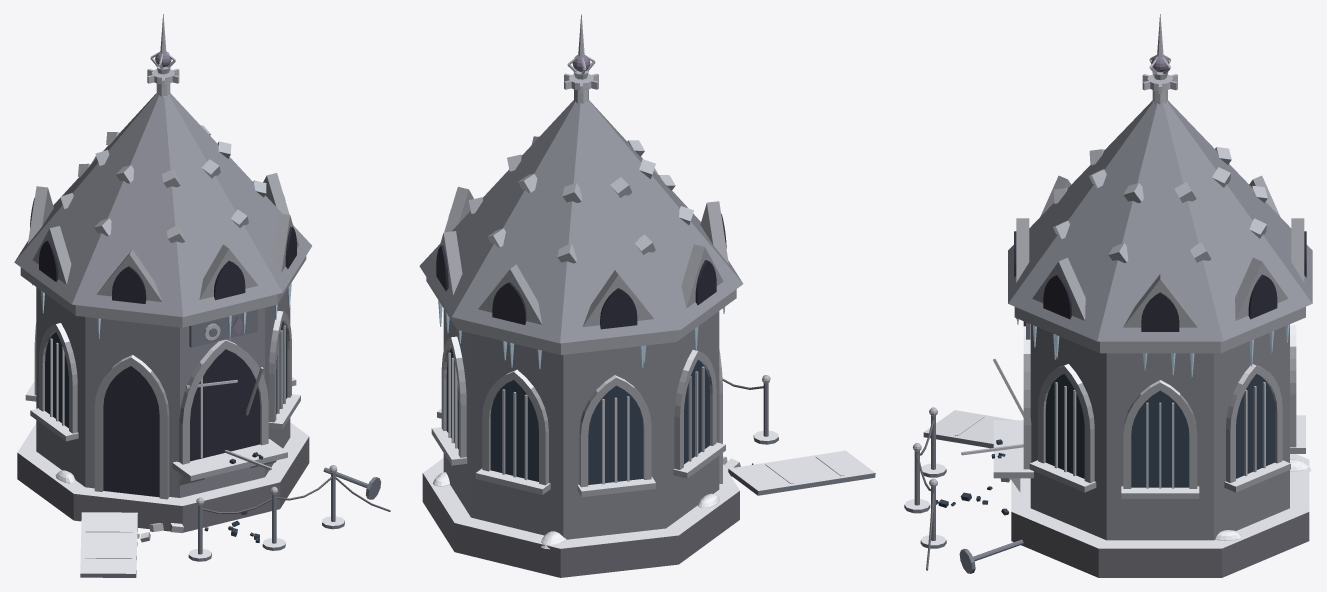
The model's file is PR_Quiosque_Cambio.fbx.
The picture shows the model from 3 angles, left to right: view 1: azimuth 30°, elevation 25°; view 2: azimuth 150°, elevation 25°; view 3: azimuth 270°, elevation 25°; orthographic projection. The views are drawn at different scales.
Visible parts, largest first — view 1: PR_Quiosque_Cambio; view 2: PR_Quiosque_Cambio; view 3: PR_Quiosque_Cambio.
Boxes of the visible parts, <box> form: PR_Quiosque_Cambio: <box>14,14,390,577</box>; PR_Quiosque_Cambio: <box>419,14,875,577</box>; PR_Quiosque_Cambio: <box>904,14,1312,577</box>.
Bounding box in the file's own units: 6.02 × 8.53 × 6.3.
